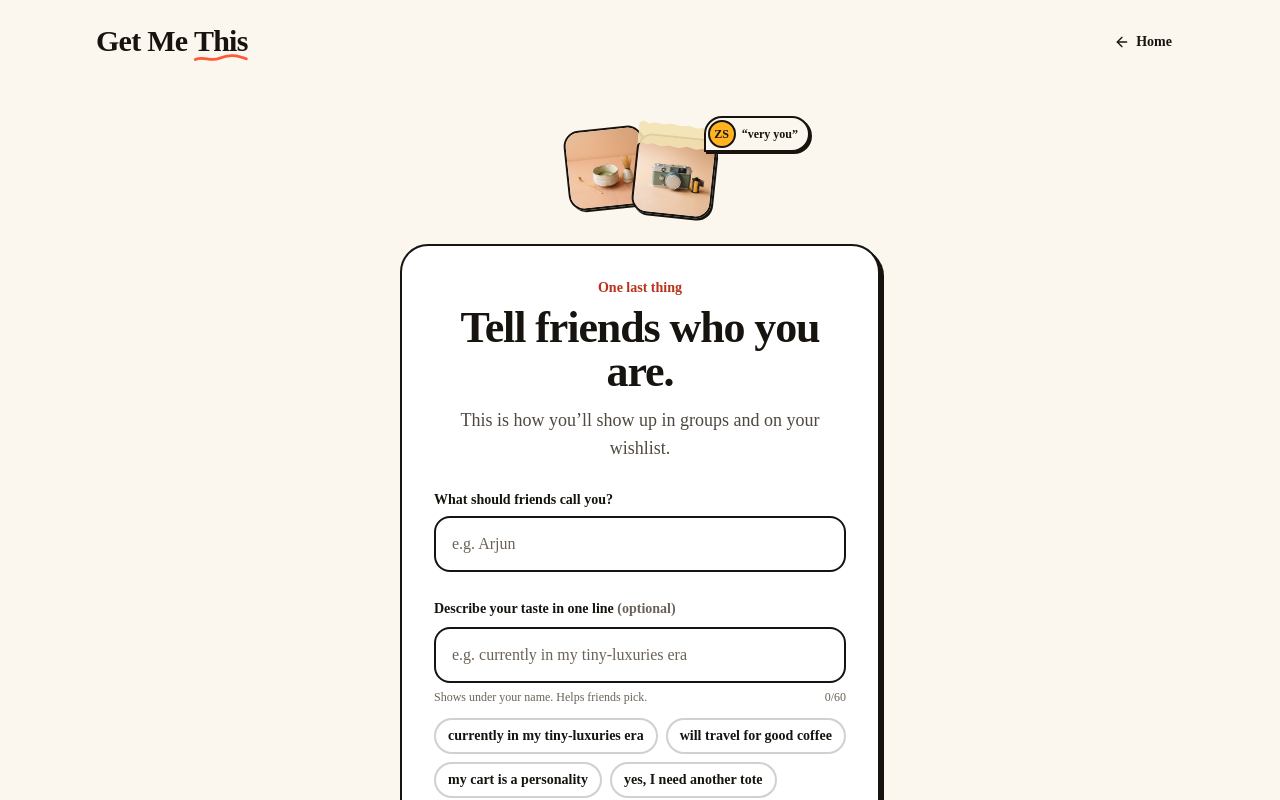
Test: OnboardingForm live submission feedback › shows pending feedback, blocks repeat submits, and recovers after a save error (flow invite-flow)
The image size is (1280, 800).
Type "Arjun" into the field labelled "What should friends call you?" at (640, 544), box [434,516,846,572]
(page scrolled)
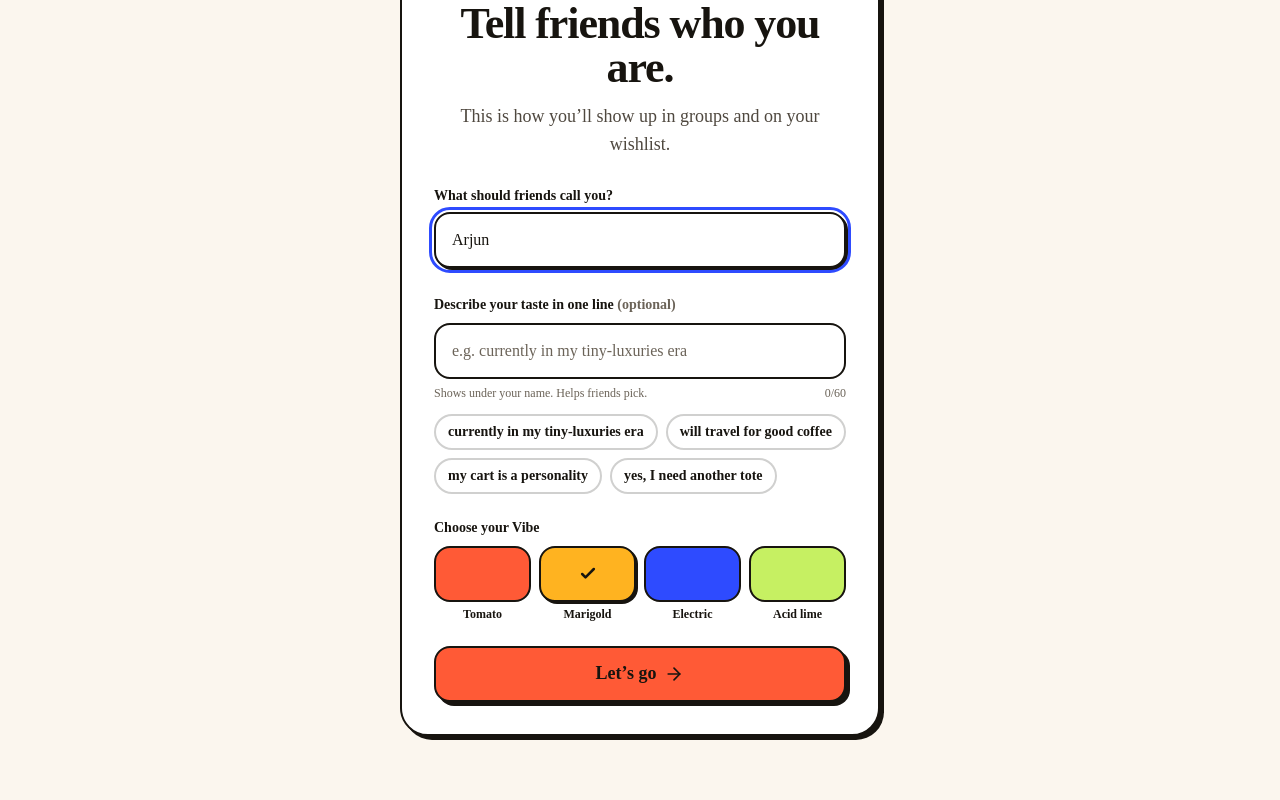
Click the button "Let’s go" at (640, 674), box [434,646,846,702]
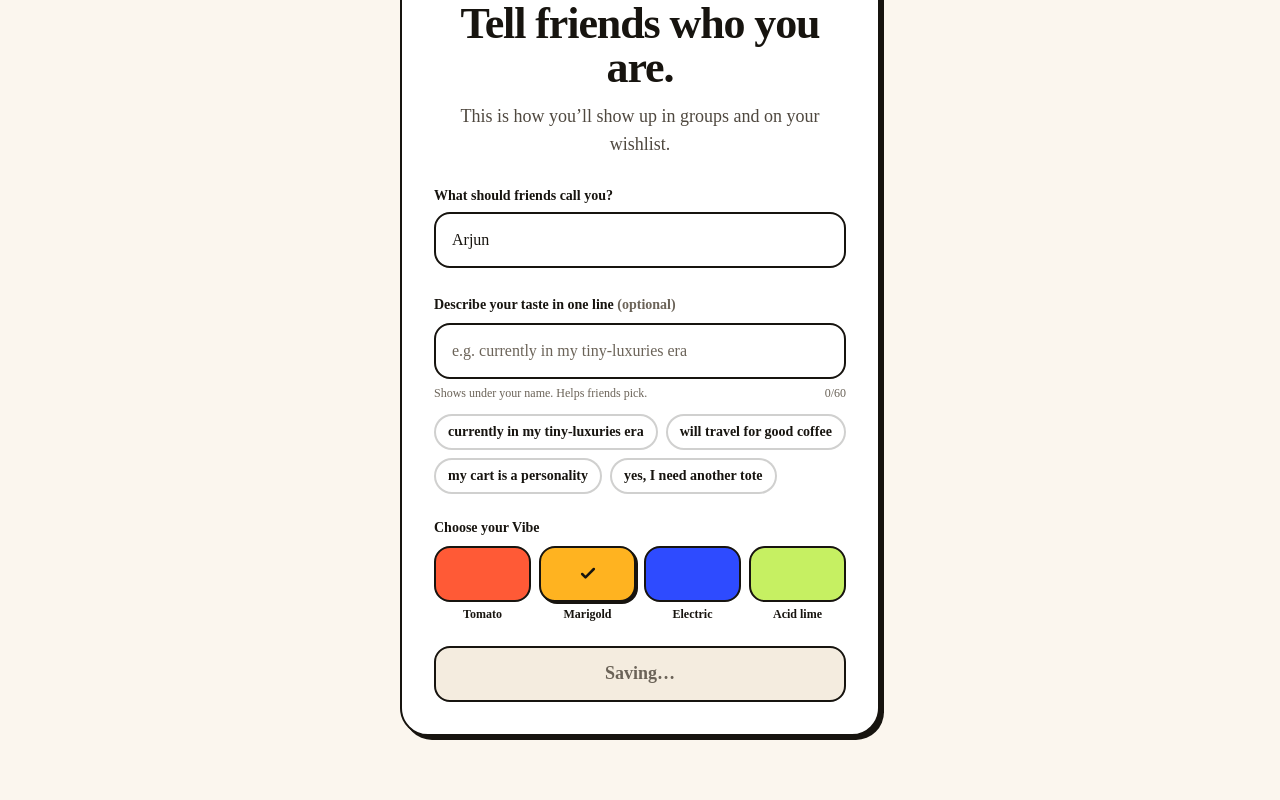
Expected: the button "Saving…" is disabled
Click the button "Saving…" at (640, 674), box [434,646,846,702]
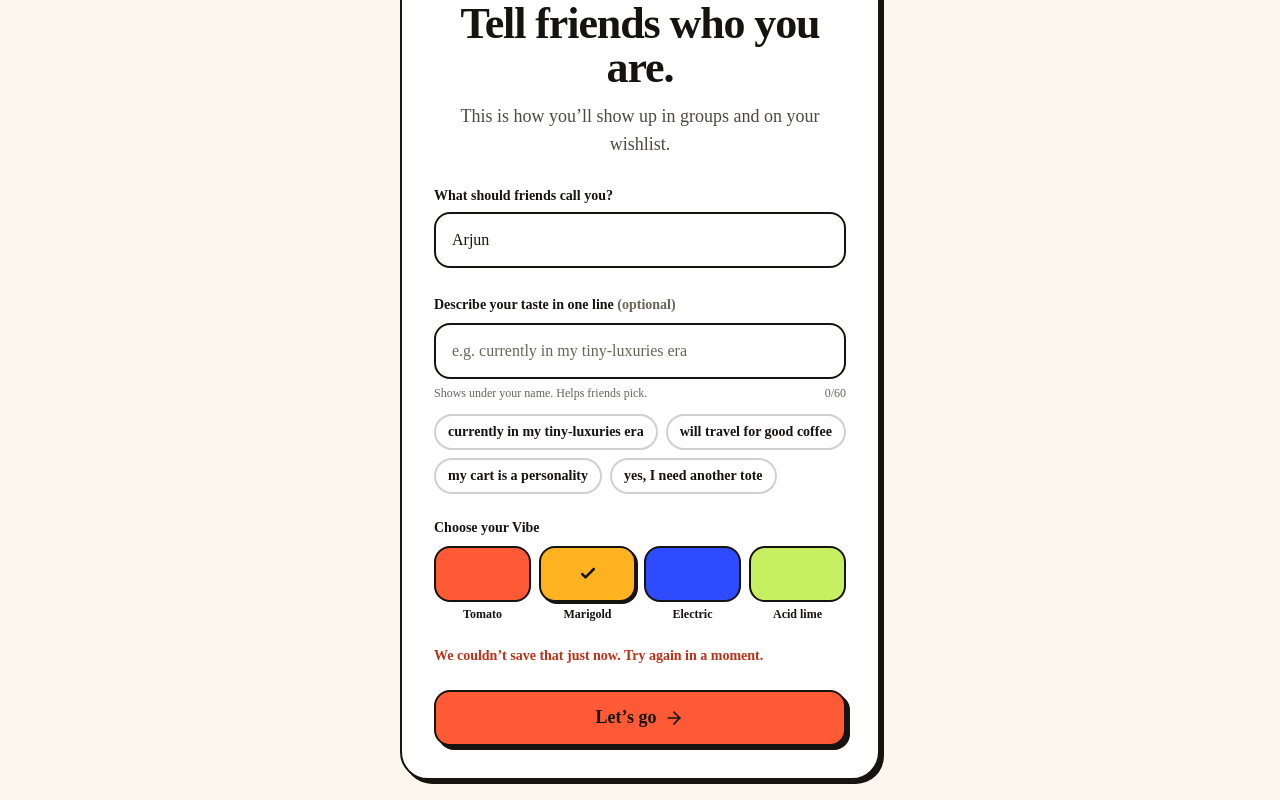
Expected: the button "Let’s go" is enabled, [434,690,846,746]
Expected: the message shows "We couldn’t save that just now.", [434,648,763,663]
